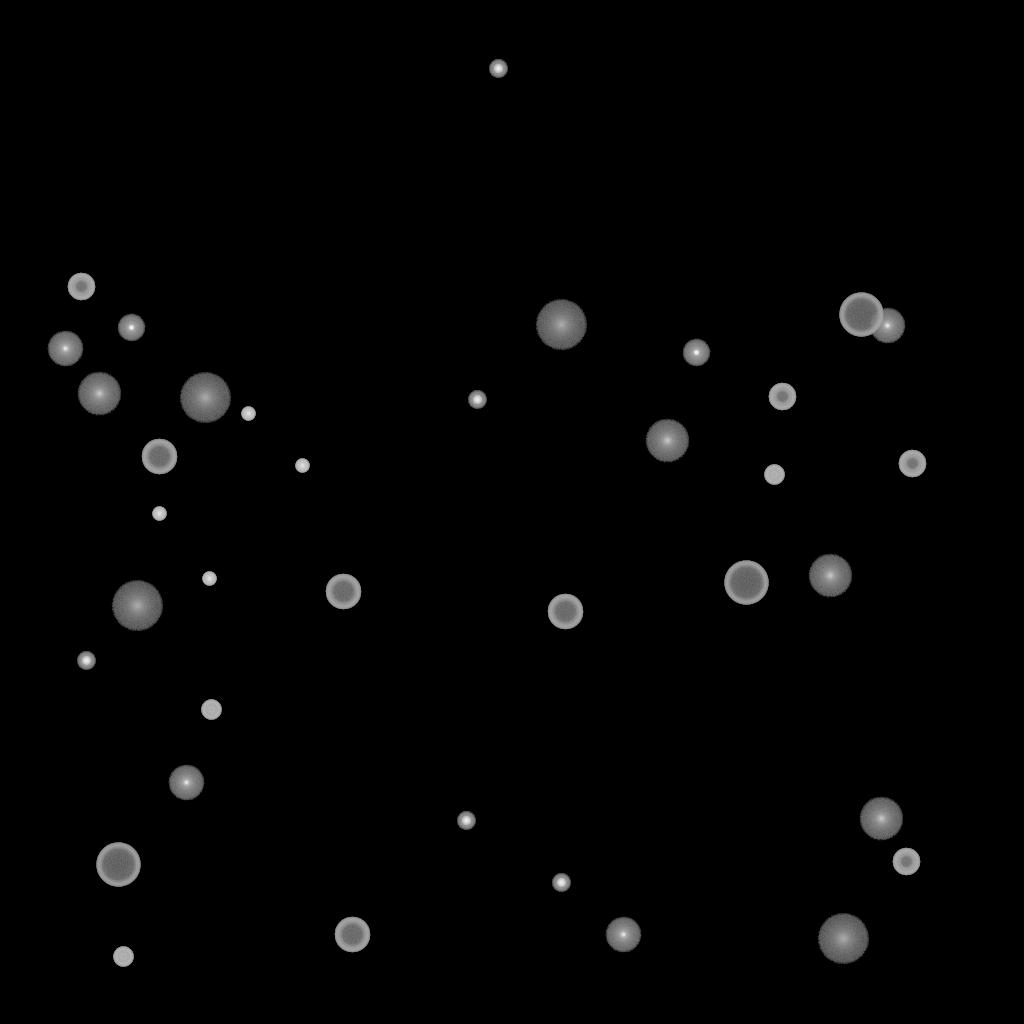depth:-10: (682, 339, 710, 367), (117, 314, 145, 342)
depth:-20: (552, 874, 570, 892), (77, 652, 95, 670), (468, 391, 486, 409), (457, 812, 475, 830), (489, 60, 507, 78)
depth:-30: (202, 572, 216, 586), (295, 459, 309, 473), (152, 507, 166, 521), (241, 407, 255, 421)
depth:-40: (113, 947, 133, 967), (764, 465, 784, 485), (201, 700, 221, 720)
depth:-50: (892, 848, 920, 876), (898, 450, 926, 478), (67, 273, 95, 301), (768, 383, 796, 411)
depth:-60: (325, 574, 361, 610), (547, 594, 583, 630), (334, 917, 370, 953), (141, 439, 177, 475)
depth:-70: (724, 561, 768, 605), (839, 293, 883, 337), (96, 843, 140, 887)
depth:0: (869, 308, 905, 344), (47, 331, 83, 367), (605, 917, 641, 953), (168, 765, 204, 801)
depth:10: (645, 419, 689, 463), (859, 797, 903, 841), (77, 372, 121, 416), (808, 554, 852, 598)
depth:20: (111, 581, 163, 631), (535, 300, 587, 350), (817, 914, 869, 964), (179, 373, 231, 423)
